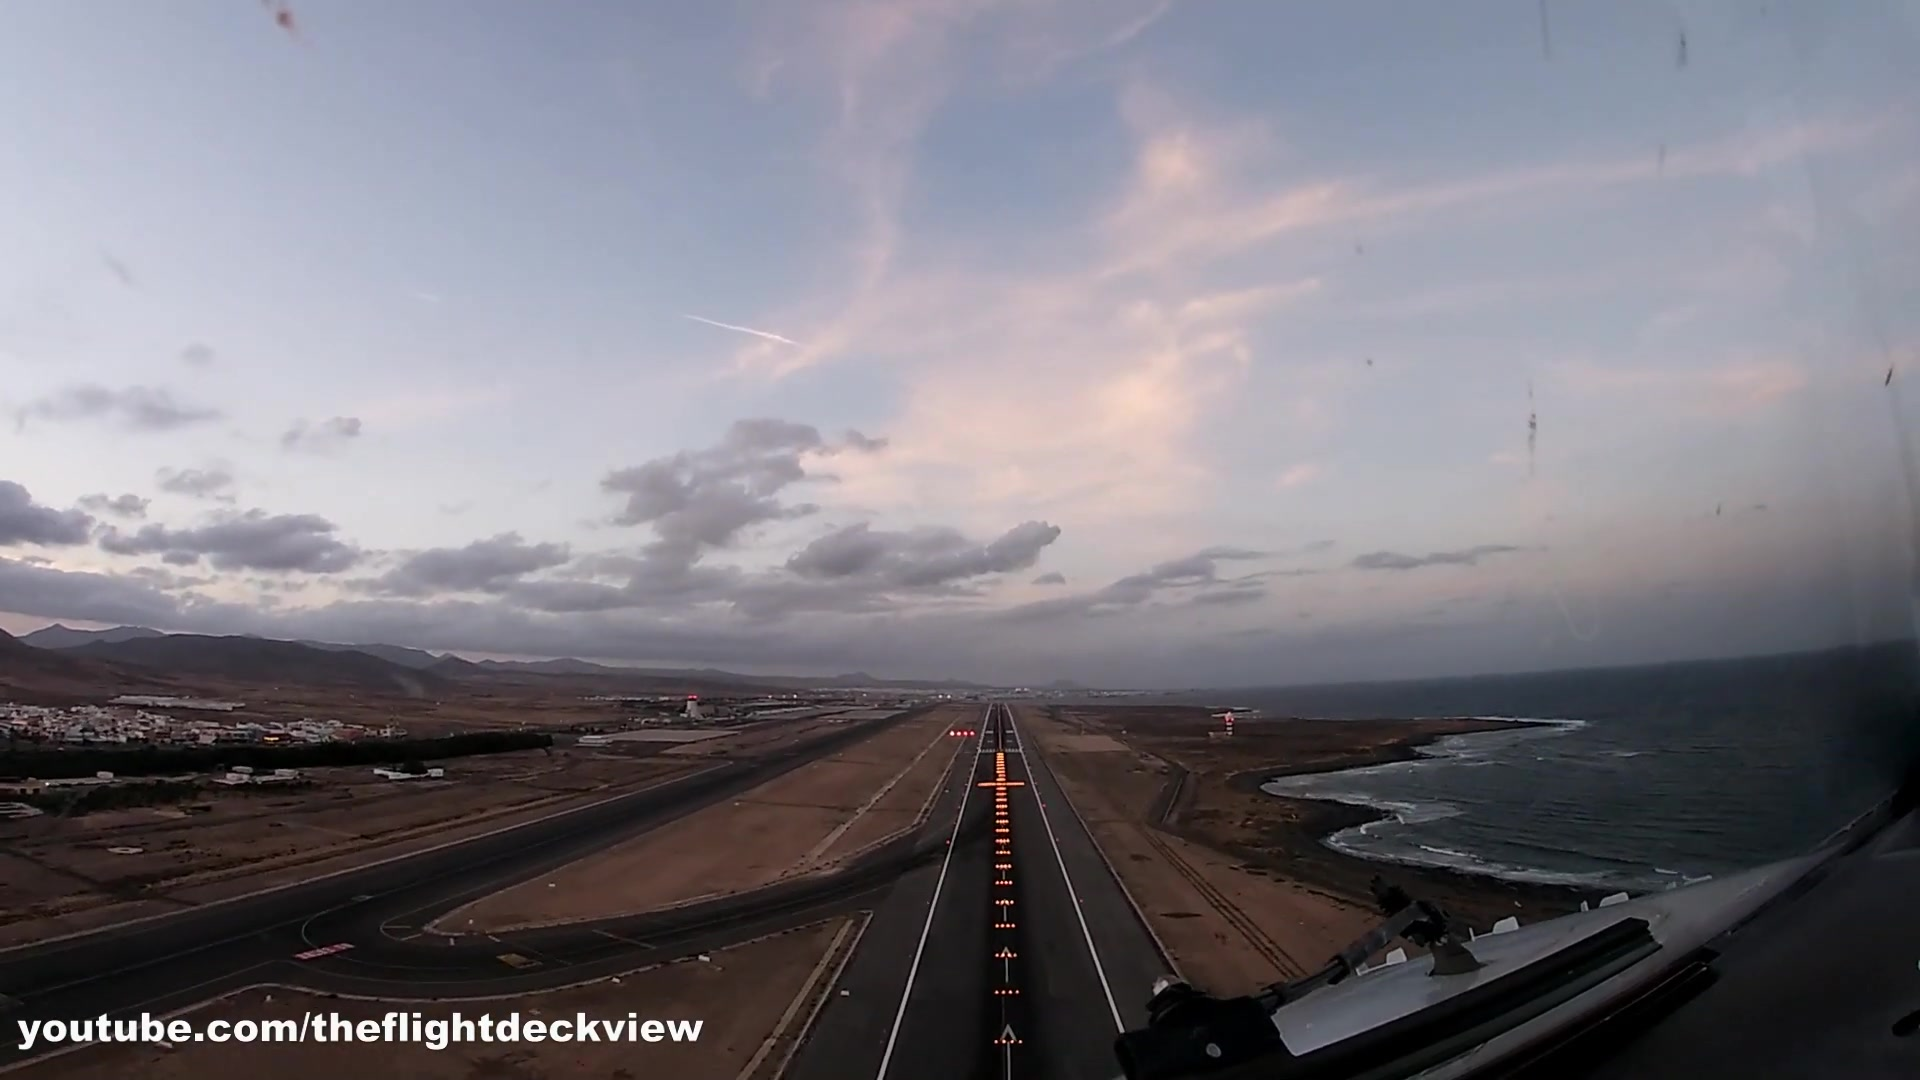entrance: (977, 748, 1022, 753)
runway: (976, 702, 1025, 756)
